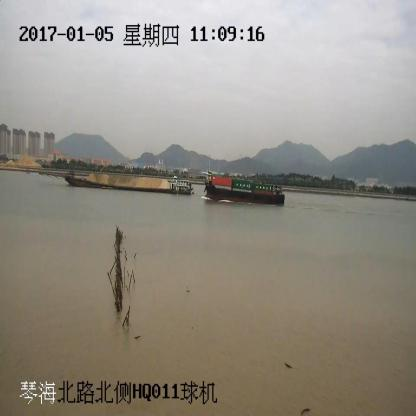Container Ship: (204, 167, 284, 203)
